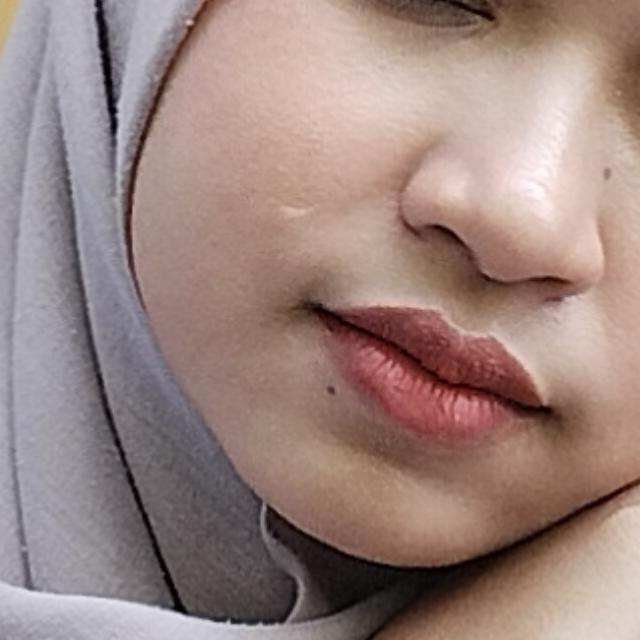tidur: (26, 168, 640, 640)
